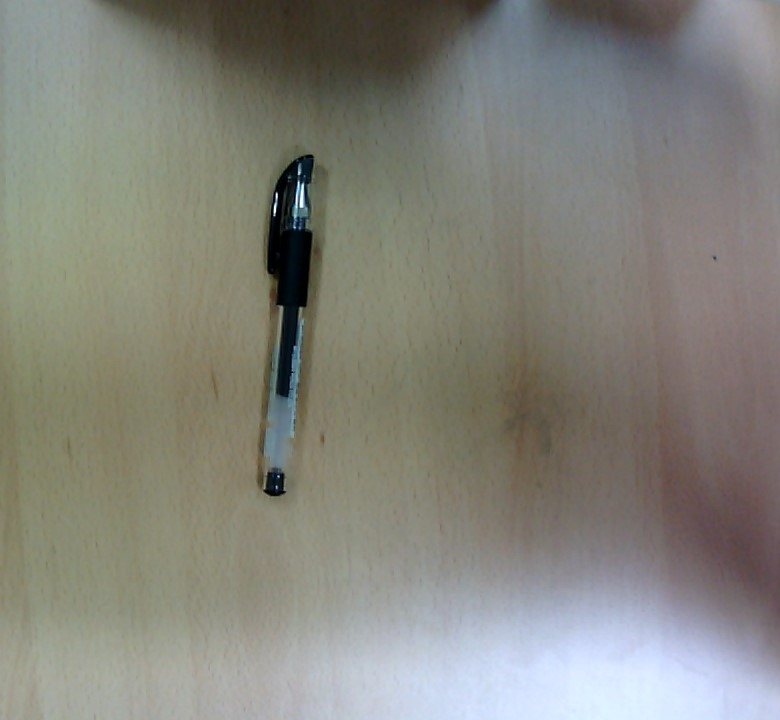Black_pen_signo: (225, 138, 343, 514)
